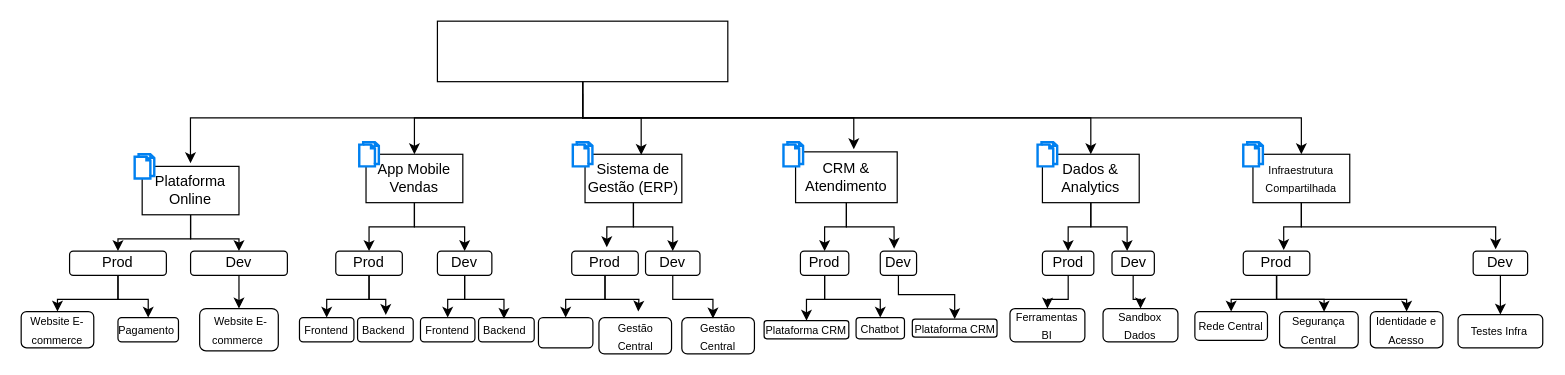
The diagram is 1565 pixels wide and 375 high, and some of its shapes have lost their labels. The box of each missing label's shape, as (x1, y1, x2, y2) in pixels:
ConectaCelulares: (436, 20, 728, 82)
Estoque: (537, 316, 593, 348)
